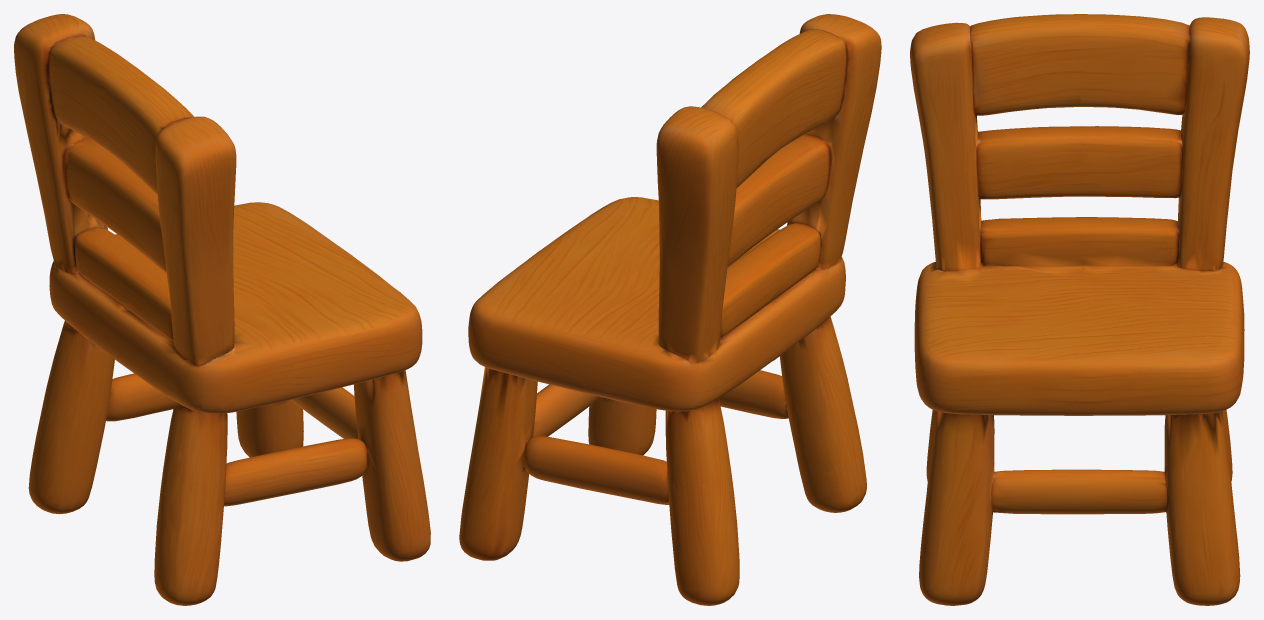
Rendered from chair.glb.
The picture shows the model from 3 angles, left to right: view 1: azimuth 30°, elevation 25°; view 2: azimuth 150°, elevation 25°; view 3: azimuth 270°, elevation 25°; orthographic projection. The views are drawn at different scales.
Parts seen in each view (by area): view 1: tripo_node_9919894b-4bfa-43b0-bbeb-320e7a830ec1; view 2: tripo_node_9919894b-4bfa-43b0-bbeb-320e7a830ec1; view 3: tripo_node_9919894b-4bfa-43b0-bbeb-320e7a830ec1.
Boxes of the visible parts, x1,y1,x2,y2 form: tripo_node_9919894b-4bfa-43b0-bbeb-320e7a830ec1: (14, 14, 430, 605); tripo_node_9919894b-4bfa-43b0-bbeb-320e7a830ec1: (459, 14, 881, 605); tripo_node_9919894b-4bfa-43b0-bbeb-320e7a830ec1: (910, 14, 1249, 605).
Bounding box in the file's own units: 0.5621 × 0.9999 × 0.6377.
1 material, 1 textured.
